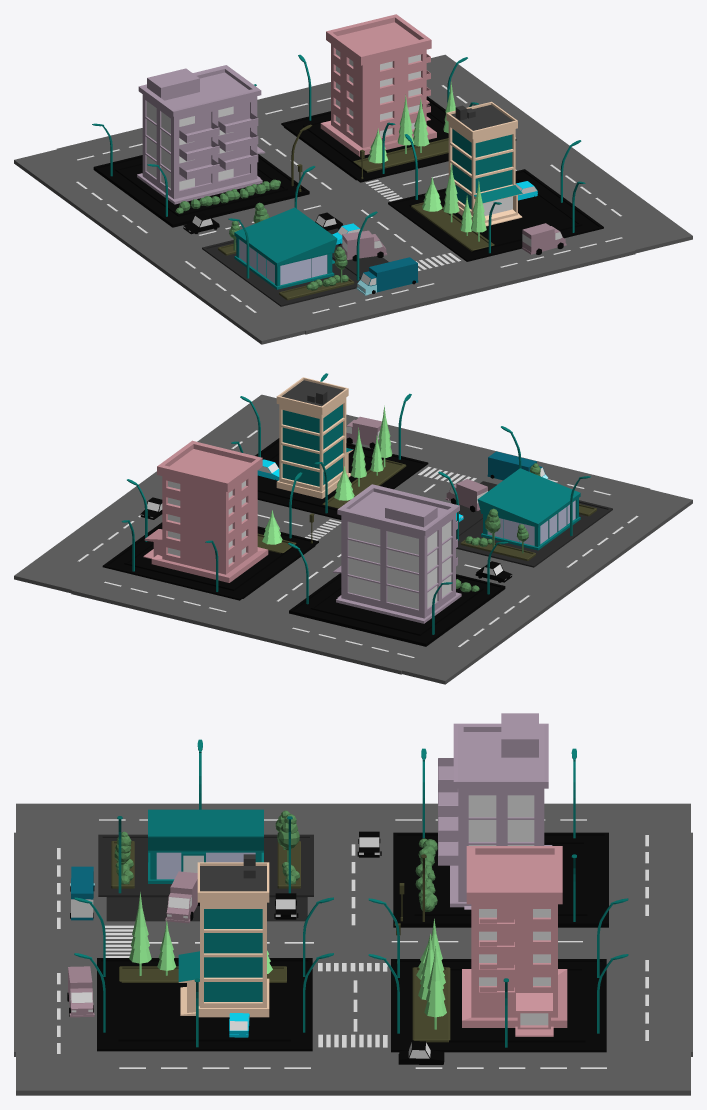
Rendered from small cit.fbx.
3 views of the same model, one above another, from view 1: azimuth 30°, elevation 25°; view 2: azimuth 150°, elevation 25°; view 3: azimuth 270°, elevation 25° (orthographic). The views are drawn at different scales.
Visible parts, largest first — view 1: ROAD, House, House_1, House_2, Shop, Floor, Floor_2, Floor.4_2, Floor_1, Floor.4_3, ROAD.Lines.12, Car_08.3 (+8 smaller); view 2: ROAD, House, House_1, House_2, Shop, Floor, Floor_1, Floor.4, Floor.4_3, Floor_2, ROAD.Lines.12, Floor.4_1 (+7 smaller); view 3: ROAD, House_1, House, House_2, Shop, Floor.4_2, Floor_2, Floor_1, Floor, ROAD.Lines.12, Floor.4_3, Floor.4_1 (+13 smaller).
Part boxes in pixels (left/top/right/bottom): ROAD: left=14, top=54, right=692, bottom=344; House: left=137, top=65, right=265, bottom=204; House_1: left=320, top=14, right=436, bottom=156; House_2: left=446, top=101, right=522, bottom=226; Shop: left=234, top=207, right=337, bottom=289; Floor: left=93, top=154, right=309, bottom=227; Floor_2: left=388, top=169, right=603, bottom=261; Floor.4_2: left=409, top=178, right=582, bottom=252; Floor_1: left=281, top=96, right=448, bottom=182; Floor.4_3: left=202, top=239, right=361, bottom=306; ROAD.Lines.12: left=76, top=85, right=622, bottom=313; Car_08.3: left=356, top=257, right=418, bottom=295; ROAD: left=14, top=394, right=692, bottom=684; House: left=333, top=484, right=461, bottom=623; House_1: left=143, top=440, right=268, bottom=582; House_2: left=276, top=377, right=353, bottom=498; Shop: left=477, top=468, right=580, bottom=550; Floor: left=289, top=573, right=505, bottom=646; Floor_1: left=102, top=522, right=318, bottom=600; Floor.4: left=310, top=583, right=483, bottom=635; Floor.4_3: left=456, top=500, right=612, bottom=567; Floor_2: left=255, top=438, right=428, bottom=519; ROAD.Lines.12: left=77, top=430, right=638, bottom=657; Floor.4_1: left=124, top=542, right=297, bottom=590; ROAD: left=14, top=803, right=692, bottom=1095; House_1: left=462, top=846, right=567, bottom=1036; House: left=438, top=713, right=552, bottom=909; House_2: left=178, top=854, right=269, bottom=1017; Shop: left=148, top=809, right=263, bottom=883; Floor.4_2: left=118, top=966, right=290, bottom=1041; Floor_2: left=97, top=958, right=312, bottom=1051; Floor_1: left=391, top=959, right=606, bottom=1052; Floor: left=393, top=832, right=608, bottom=927; ROAD.Lines.12: left=57, top=819, right=648, bottom=1068; Floor.4_3: left=98, top=834, right=313, bottom=897; Floor.4_1: left=412, top=967, right=585, bottom=1042.
Bounding box in the file's own units: 26969 × 6749 × 26969.
